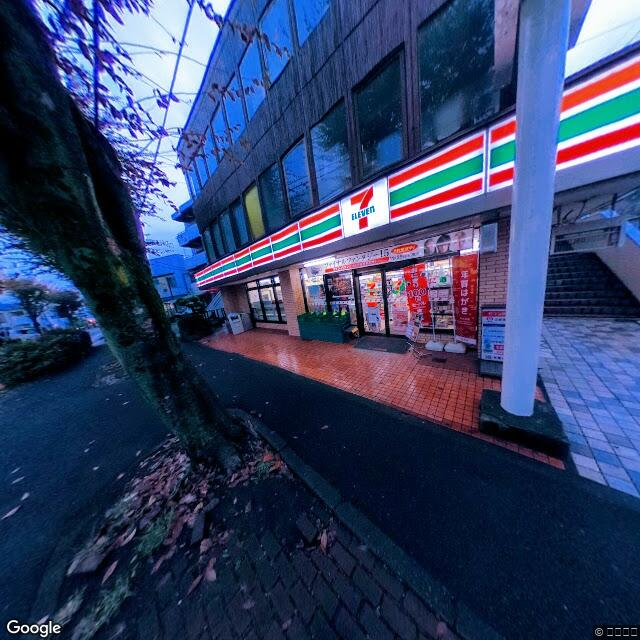7-eleven: (193, 55, 639, 291)
